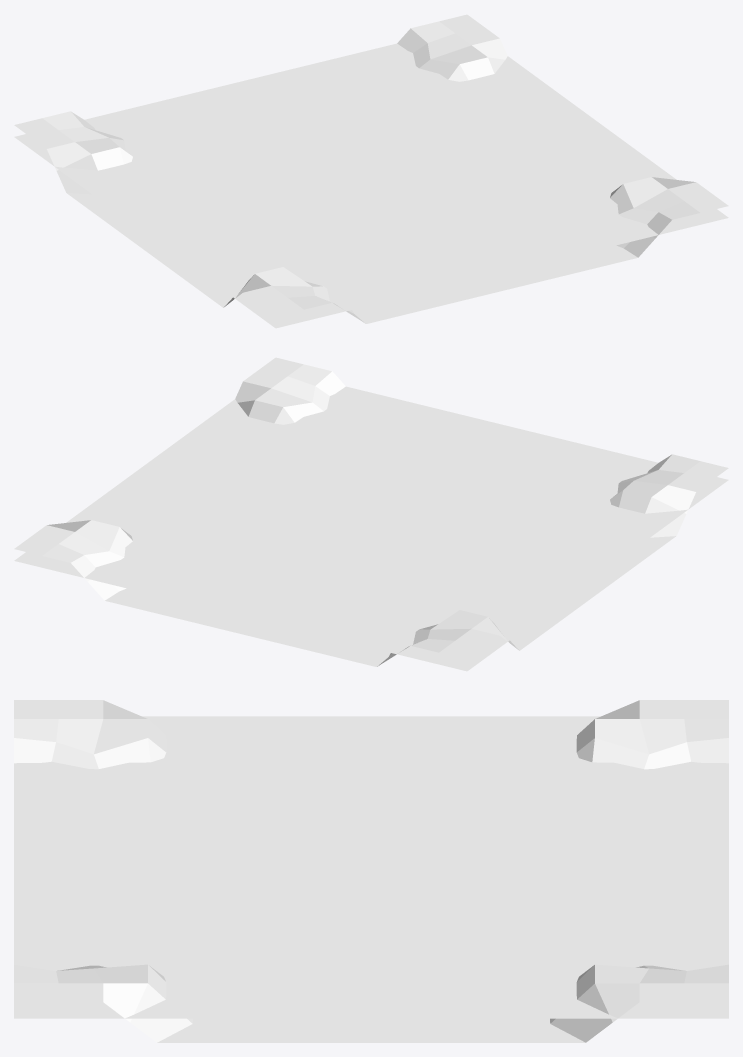
Rendered from ground.river.fourway.glb.
The picture shows the model from 3 angles, top to bottom: view 1: azimuth 30°, elevation 25°; view 2: azimuth 150°, elevation 25°; view 3: azimuth 270°, elevation 25°; orthographic projection. The views are drawn at different scales.
Visible parts, largest first — view 1: ground.river.water.fourway, ground.river.fourway; view 2: ground.river.water.fourway, ground.river.fourway; view 3: ground.river.water.fourway, ground.river.fourway.
Boxes of the visible parts, x1,y1,x2,y2 form: ground.river.water.fourway: [14, 43, 728, 328]; ground.river.fourway: [14, 14, 728, 323]; ground.river.water.fourway: [14, 386, 728, 671]; ground.river.fourway: [14, 357, 728, 666]; ground.river.water.fourway: [14, 716, 728, 1018]; ground.river.fourway: [14, 700, 728, 1042].
Size of what is drawn, in the model's own units: 4 by 0.25 by 4.
1 material, 1 textured.
